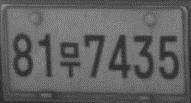1: (36, 32, 53, 78)
3: (133, 33, 154, 79)
4: (106, 34, 131, 80)
5: (157, 34, 180, 81)
7: (82, 33, 105, 79)
8: (11, 32, 34, 77)
무: (59, 40, 81, 79)
